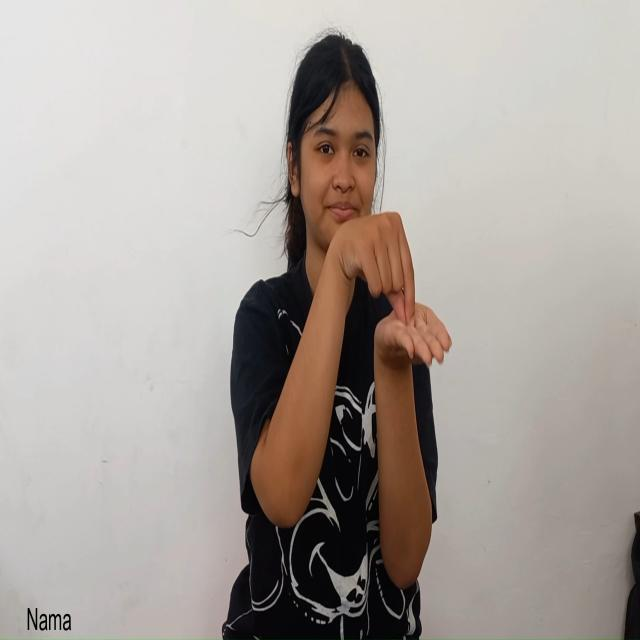Nama -BISINDO-: (336, 210, 452, 370)
